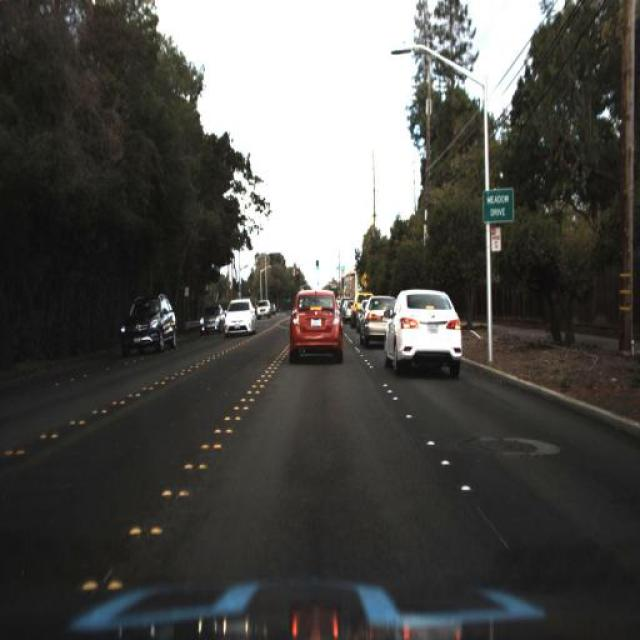car: (381, 284, 465, 376), (115, 290, 180, 360), (289, 284, 346, 362), (356, 290, 396, 345), (218, 298, 258, 340), (197, 301, 228, 337), (254, 296, 274, 326)
